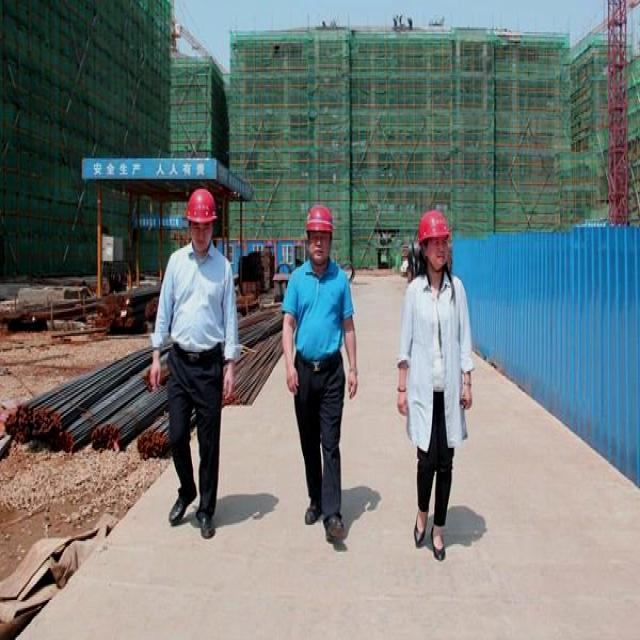face_nomask: (189, 216, 214, 258), (426, 237, 451, 277), (308, 230, 331, 269)
hand_noglove: (278, 364, 304, 398), (391, 386, 414, 420), (147, 365, 163, 395), (346, 371, 360, 402), (223, 371, 235, 405), (458, 389, 474, 413)
head_helmet: (181, 189, 218, 222), (418, 210, 450, 240), (304, 205, 332, 232)
person: (280, 206, 360, 554), (153, 187, 228, 549), (399, 208, 469, 563)
shoes: (168, 483, 200, 528), (320, 506, 350, 547), (427, 511, 450, 562), (194, 501, 218, 544), (299, 492, 325, 526), (409, 510, 428, 550)
